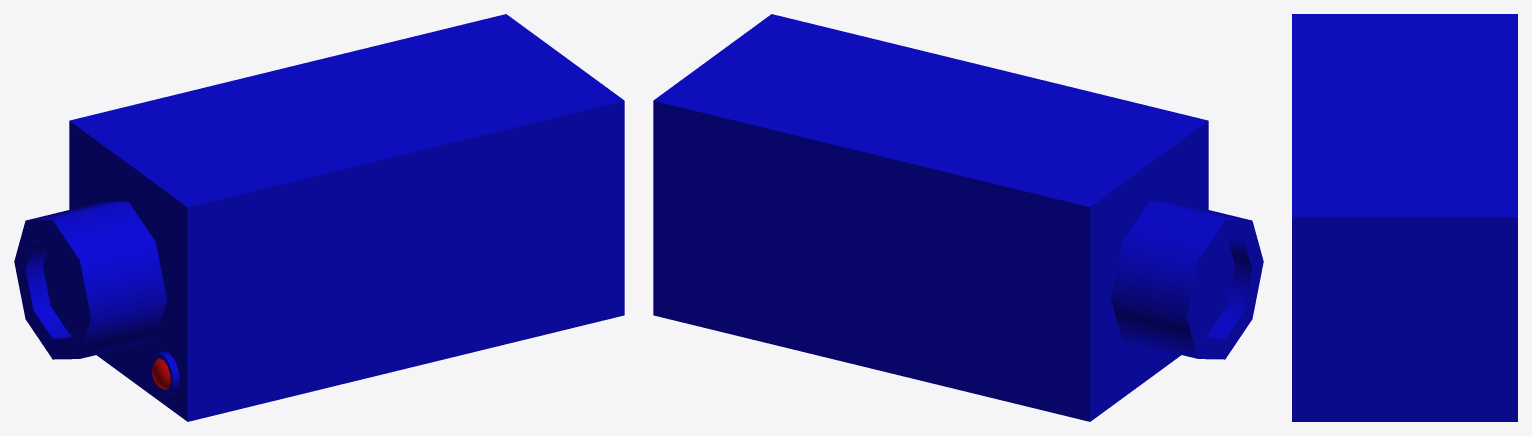
File: DevCam.fbx
3 renders of one model, left to right at view 1: azimuth 30°, elevation 25°; view 2: azimuth 150°, elevation 25°; view 3: azimuth 270°, elevation 25°, orthographic. The views are drawn at different scales.
Visible parts, largest first — view 1: Cube.001; view 2: Cube.001; view 3: Cube.001.
Part boxes in pixels (x1,y1,x2,y2): Cube.001: [14, 14, 624, 421]; Cube.001: [653, 14, 1263, 421]; Cube.001: [1292, 14, 1517, 421].
Bounding box in the file's own units: 20 × 20 × 50.
